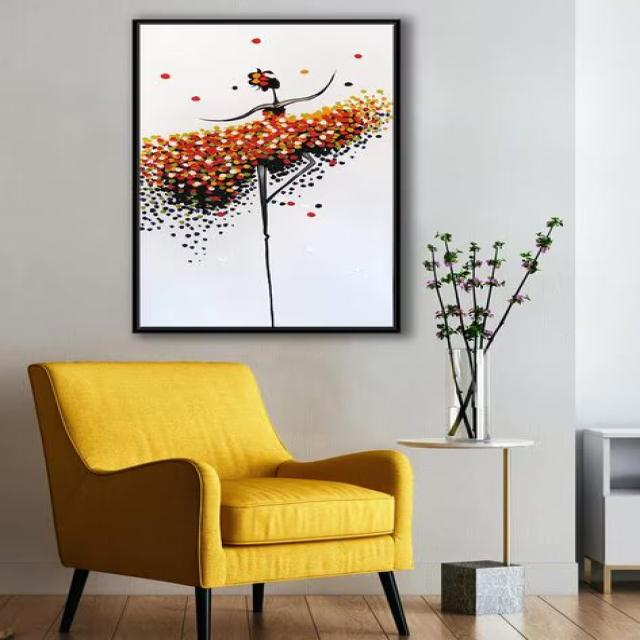painting: (132, 19, 401, 331)
